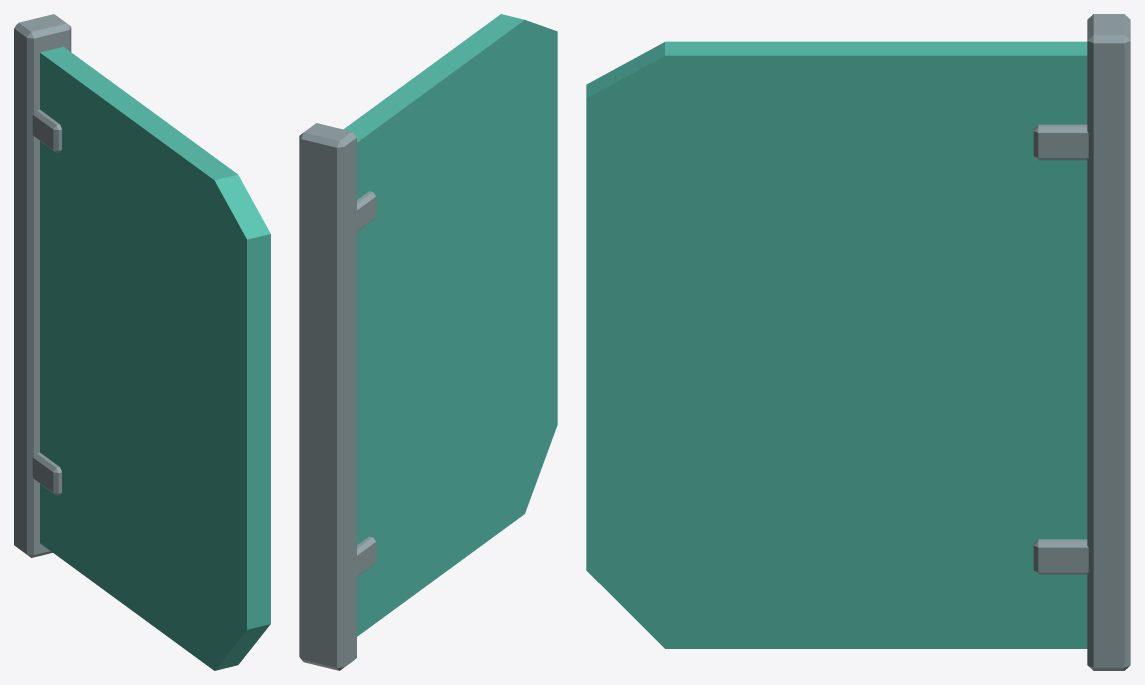
Rendered from Structure-UrinalDivider.fbx.
The picture shows the model from 3 angles, left to right: view 1: azimuth 30°, elevation 25°; view 2: azimuth 150°, elevation 25°; view 3: azimuth 270°, elevation 25°; orthographic projection. The views are drawn at different scales.
Visible parts, largest first — view 1: Rounded Privacy Screen, Wall Channel, Mounting Shoe, Mounting Shoe.001; view 2: Rounded Privacy Screen, Wall Channel, Mounting Shoe.001, Mounting Shoe; view 3: Rounded Privacy Screen, Wall Channel, Mounting Shoe.001, Mounting Shoe.
Boxes of the visible parts, left/top/right/bottom form: Rounded Privacy Screen: left=40, top=47, right=270, bottom=670; Wall Channel: left=14, top=14, right=71, bottom=557; Mounting Shoe: left=32, top=452, right=61, bottom=495; Mounting Shoe.001: left=32, top=109, right=61, bottom=152; Rounded Privacy Screen: left=343, top=14, right=557, bottom=636; Wall Channel: left=299, top=123, right=356, bottom=670; Mounting Shoe.001: left=357, top=191, right=376, bottom=231; Mounting Shoe: left=357, top=536, right=376, bottom=576; Rounded Privacy Screen: left=586, top=41, right=1087, bottom=648; Wall Channel: left=1087, top=14, right=1130, bottom=670; Mounting Shoe.001: left=1033, top=124, right=1088, bottom=160; Mounting Shoe: left=1033, top=539, right=1088, bottom=574.
Bounding box in the file's own units: 0.079 × 0.89 × 0.6905.
